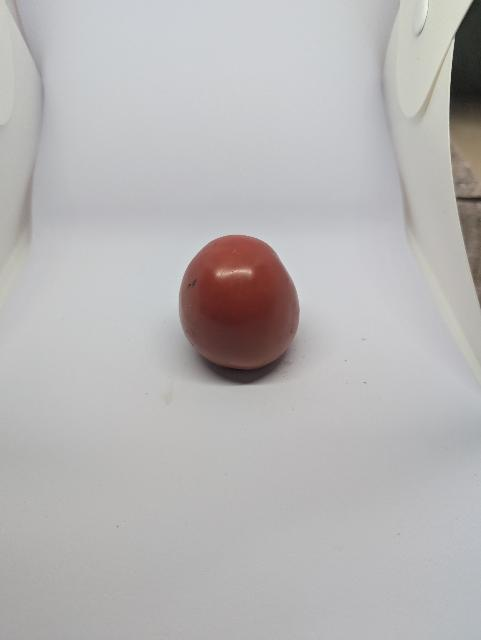red: (167, 231, 315, 381)
